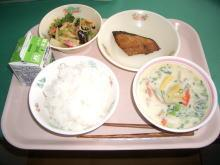rice: (30, 56, 117, 132)
